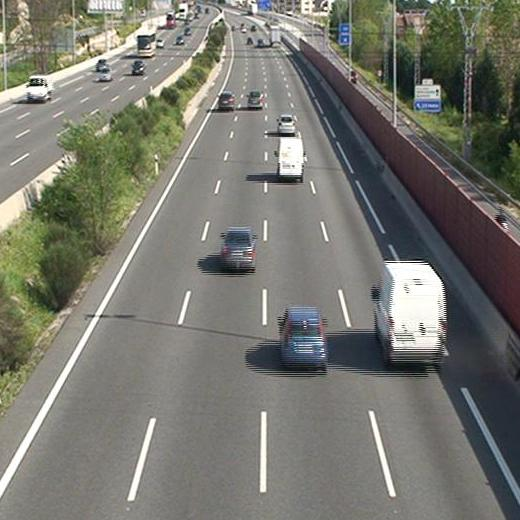car: (280, 309, 326, 367), (221, 229, 255, 269), (277, 115, 295, 134), (217, 92, 235, 110), (247, 90, 263, 107)
van: (375, 263, 445, 363), (276, 137, 304, 180)
